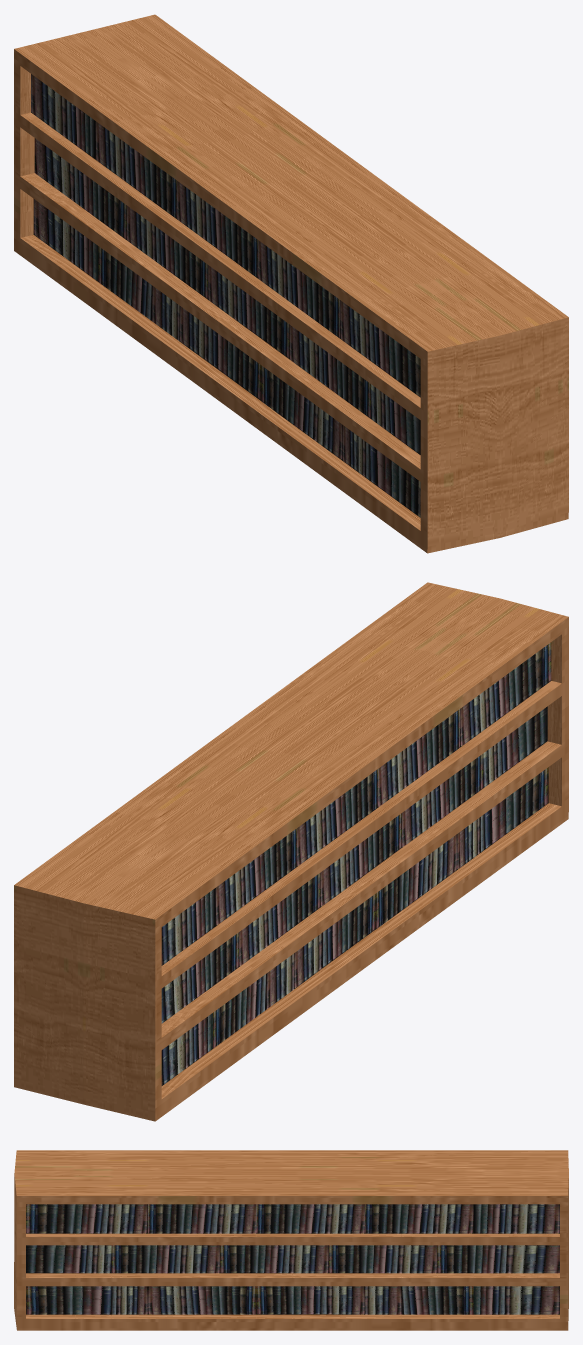
Rendered from OLD_bookcase.fbx.
3 views of the same model, one above another, from view 1: azimuth 30°, elevation 25°; view 2: azimuth 150°, elevation 25°; view 3: azimuth 270°, elevation 25° (orthographic). The views are drawn at different scales.
Parts seen in each view (by area): view 1: Cube; view 2: Cube; view 3: Cube.
Part boxes in pixels (bbox=[...]): Cube: bbox=[14, 14, 568, 553]; Cube: bbox=[14, 582, 568, 1121]; Cube: bbox=[14, 1150, 568, 1330].
Bounding box in the file's own units: 301 × 411 × 1534.
